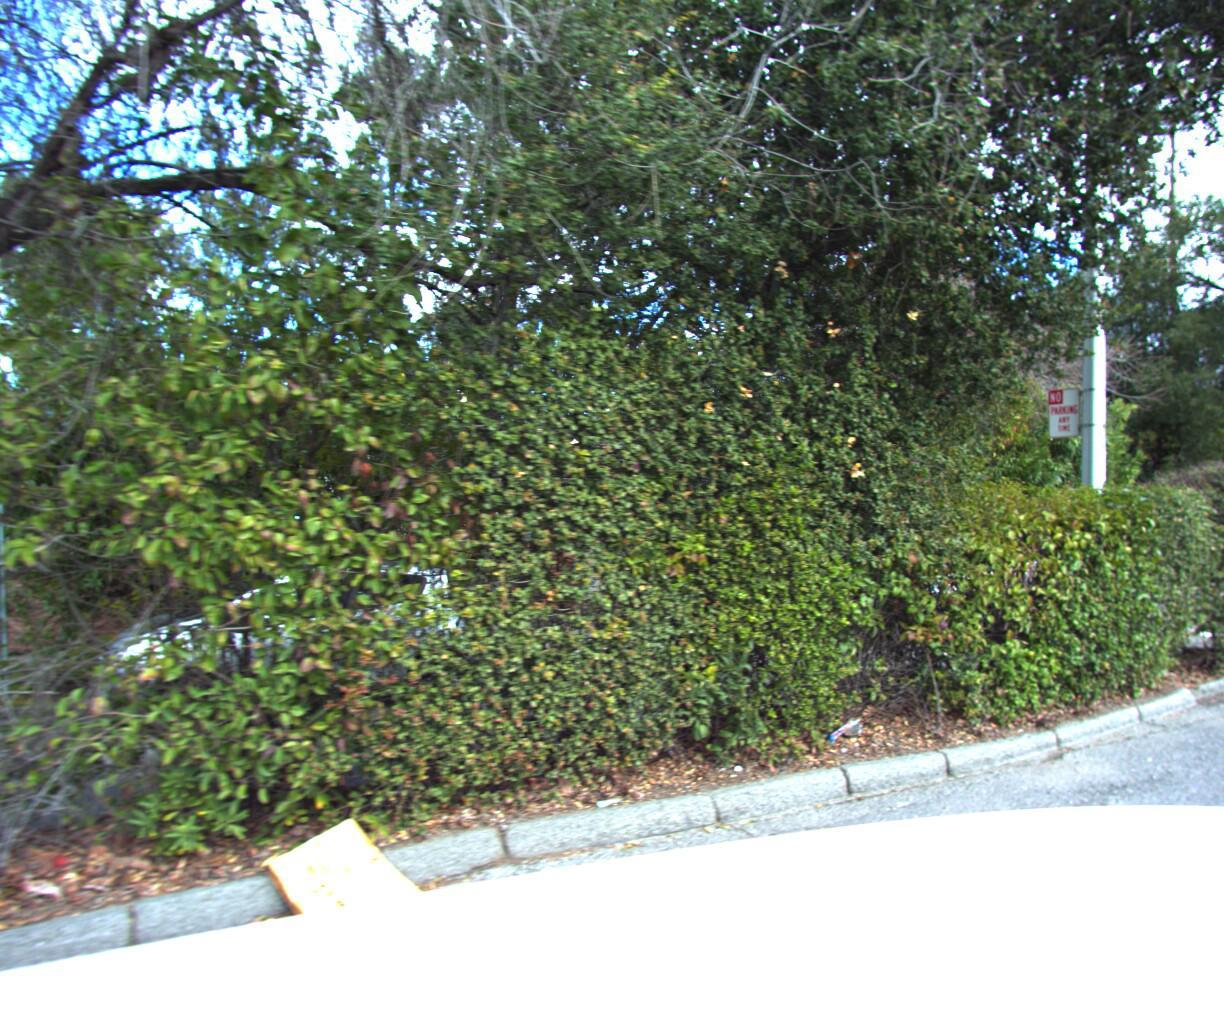car: (89, 549, 499, 761)
